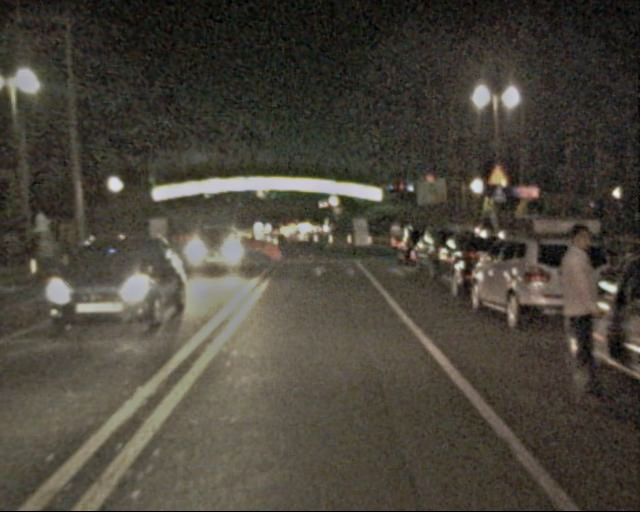person: (537, 226, 620, 398), (389, 220, 405, 258)
